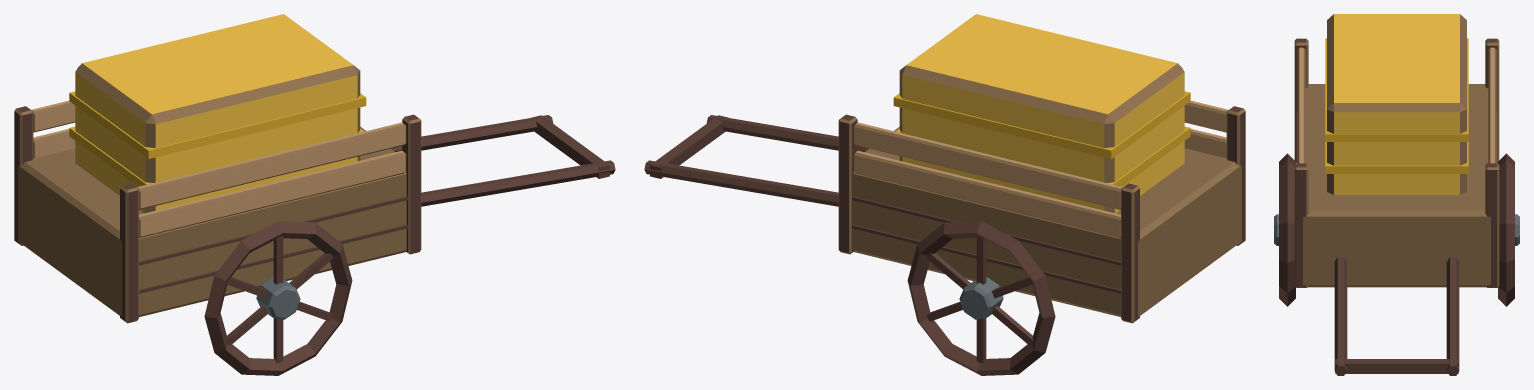
File: cart.glb
The picture shows the model from 3 angles, left to right: view 1: azimuth 30°, elevation 25°; view 2: azimuth 150°, elevation 25°; view 3: azimuth 270°, elevation 25°; orthographic projection. The views are drawn at different scales.
Parts seen in each view (by area): view 1: cart-m; view 2: cart-m; view 3: cart-m.
Part boxes in pixels (<box>): cart-m: <box>14,14,615,375</box>; cart-m: <box>644,14,1245,375</box>; cart-m: <box>1274,14,1519,375</box>.
Bounding box in the file's own units: 3.8 × 1.9 × 1.75.
